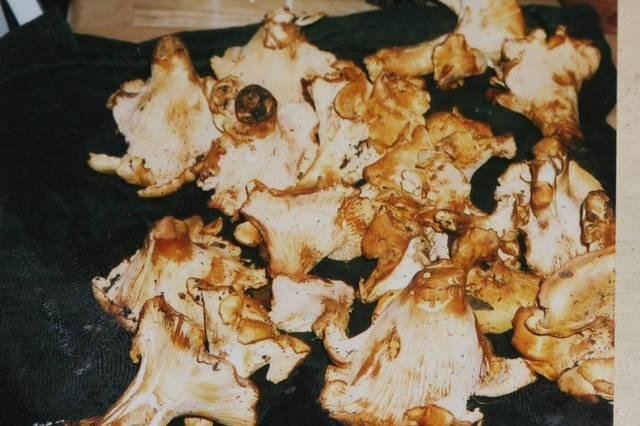Edible Mushroom: (44, 0, 614, 425)
